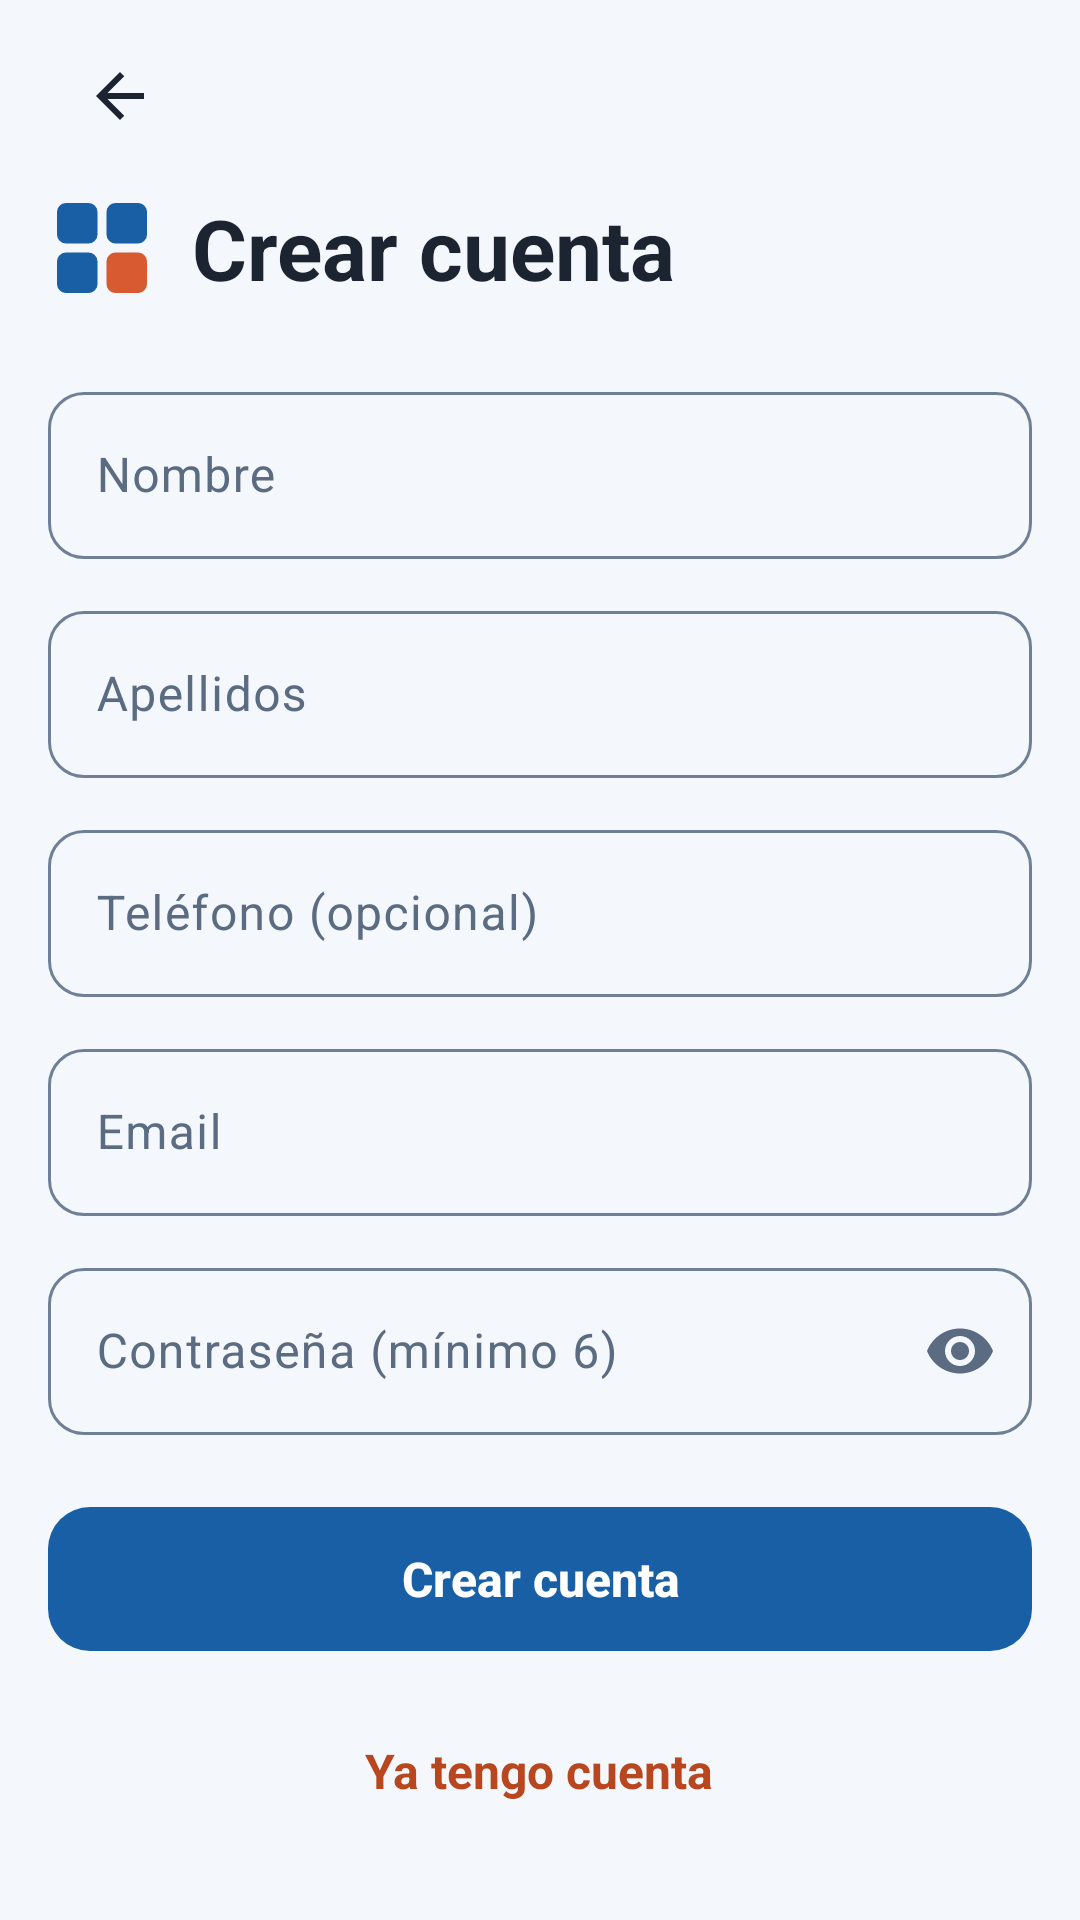

Where icons sit on this 1080 × 1920 app screen, as {"left": x1, "top": y1, "right": x2, "bottom": y2}:
Volver: {"left": 96, "top": 72, "right": 144, "bottom": 120}
